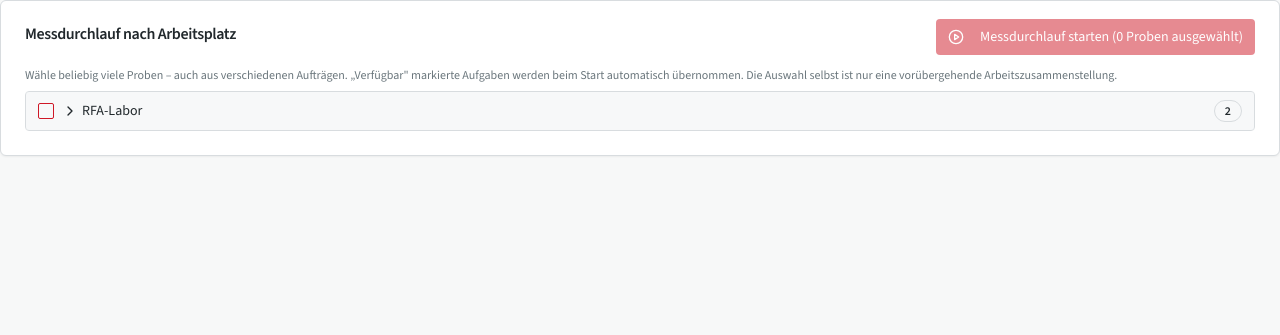
Test case: MeasurementRunPicker – Tabelle, Beschreibung, direkte Navigation & Suche › bietet bei fremd zugewiesenen oder nicht qualifizierten Aufgaben keine aktive Bearbeitungsaktion
Click the button "RFA-Labor" at (112, 110), box [62, 101, 1206, 121]
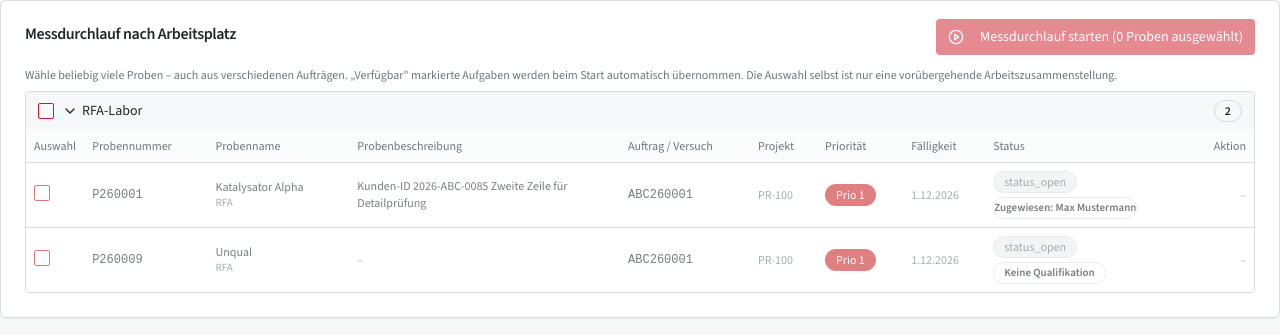
Now the text "Zugewiesen: Max Mustermann" is shown, box [993, 196, 1137, 218]
Now the text "Keine Qualifikation" is shown, box [993, 262, 1106, 284]
